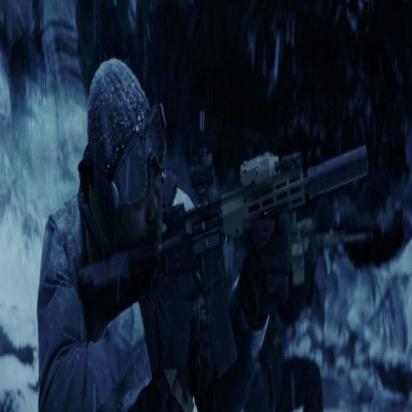Gun: (74, 132, 373, 412)
